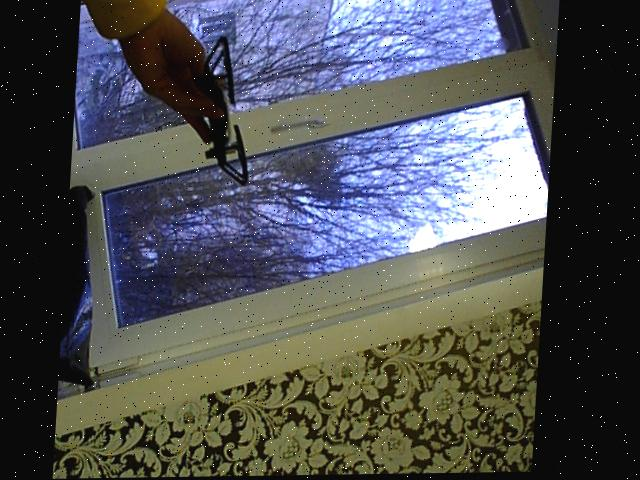drone: (189, 35, 264, 193)
